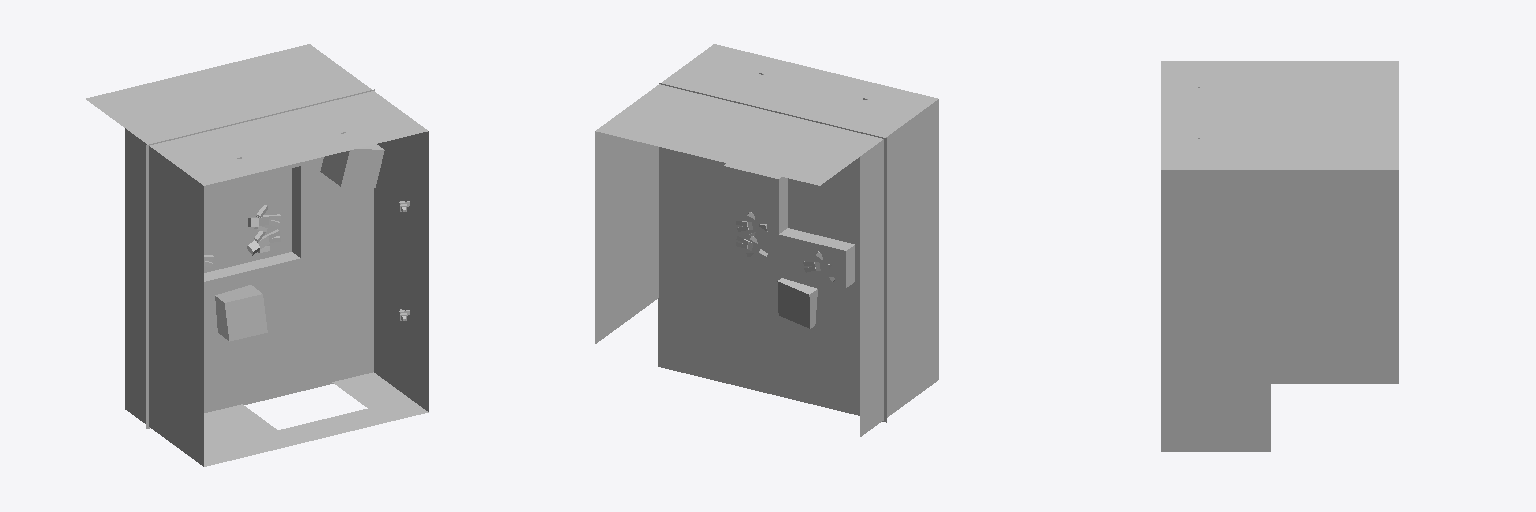
Rendered from aztec_1_mesh.obj.
3 views of the same model, side by side, from view 1: azimuth 30°, elevation 25°; view 2: azimuth 150°, elevation 25°; view 3: azimuth 270°, elevation 25° (orthographic).
Visible parts, largest first — view 1: aztec_1_mesh_0, aztec_1_mesh_2; view 2: aztec_1_mesh_0, aztec_1_mesh_2; view 3: aztec_1_mesh_0.
Part boxes in pixels (left/top/right/bottom): aztec_1_mesh_0: left=86, top=44, right=428, bottom=466; aztec_1_mesh_2: left=146, top=89, right=374, bottom=428; aztec_1_mesh_0: left=595, top=44, right=938, bottom=436; aztec_1_mesh_2: left=658, top=83, right=886, bottom=422; aztec_1_mesh_0: left=1161, top=61, right=1398, bottom=451.
Bounding box in the file's own units: 14.4 × 17.1 × 13.